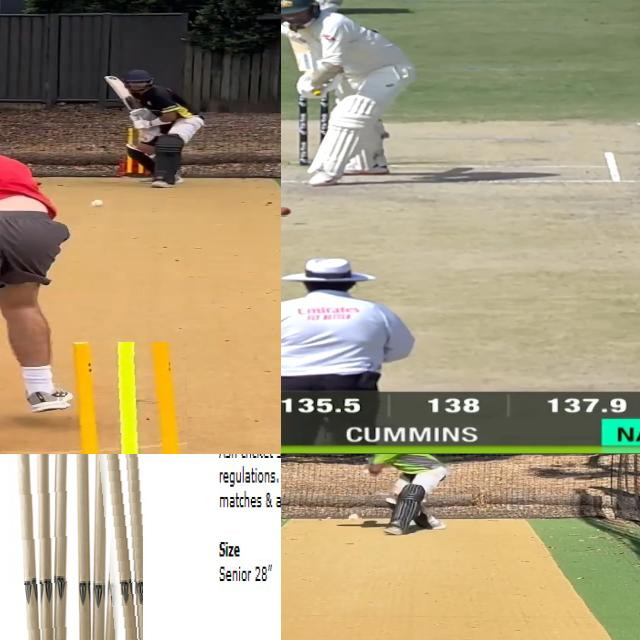Cricket ball: (345, 513, 362, 523), (89, 199, 105, 209), (281, 206, 292, 217)
Stumps: (54, 341, 187, 454), (69, 454, 143, 640), (0, 454, 68, 640)
